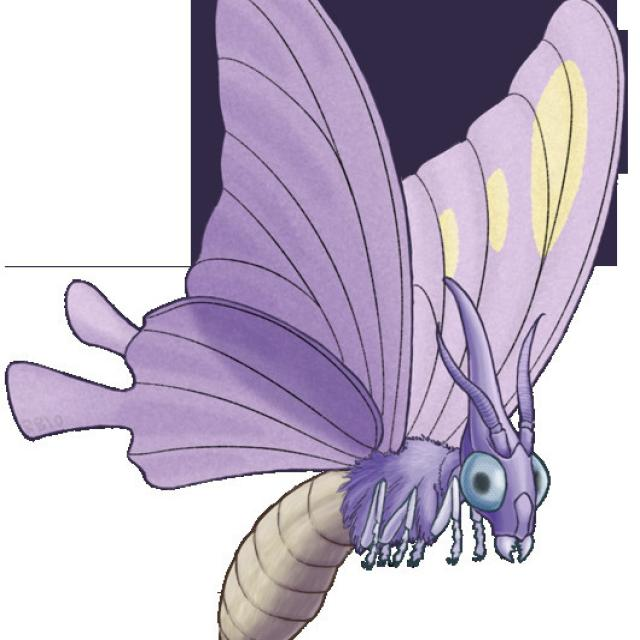Venomoth: (169, 198, 574, 640)
